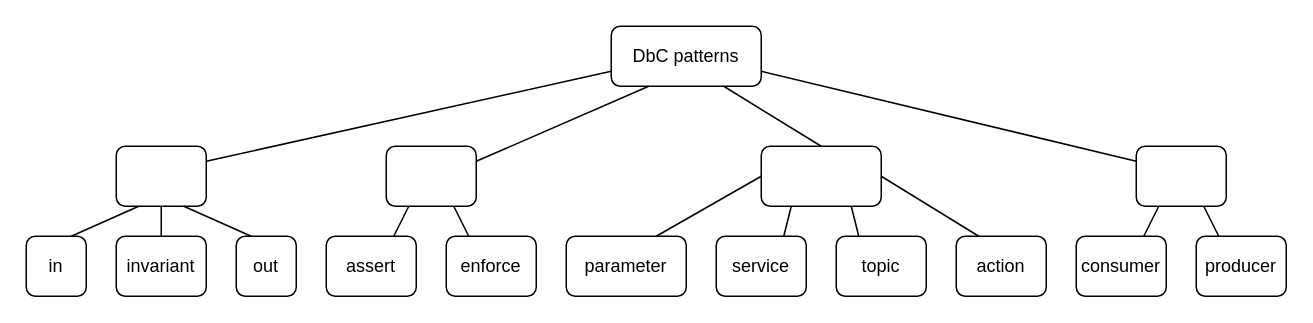
Some shapes in this 1313 by 323 pixel diagram are drawn without their labels. Here are the shapes that lost their labels. From the top down, the centre of each, then its label:
the point at 160,175: contract
the point at 430,175: check
the point at 820,175: interface
the point at 1180,175: direction
